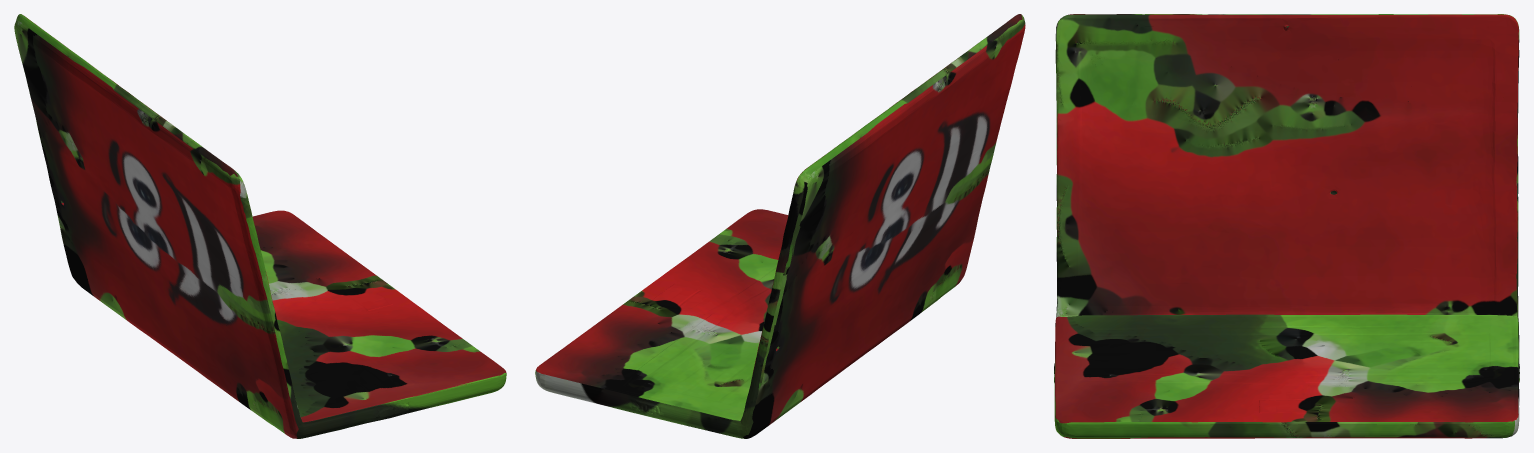
Rendered from sample.obj.
3 views of the same model, side by side, from view 1: azimuth 30°, elevation 25°; view 2: azimuth 150°, elevation 25°; view 3: azimuth 270°, elevation 25° (orthographic). The views are drawn at different scales.
Bounding box in the file's own units: 0.3293 × 0.325 × 0.4655.
